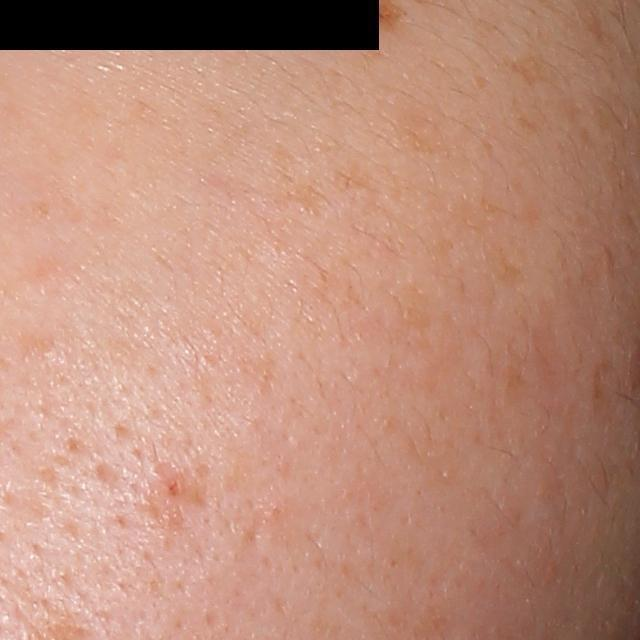melasma: (267, 136, 338, 222), (459, 236, 529, 297), (494, 49, 574, 97), (330, 162, 378, 198), (472, 71, 492, 93)
